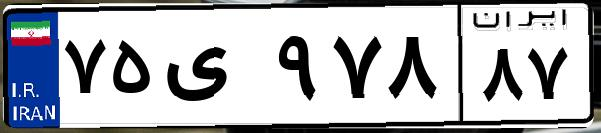5: (110, 28, 158, 98)
7: (330, 28, 385, 110), (57, 26, 110, 100), (525, 38, 570, 115)
8: (385, 28, 445, 110), (475, 38, 525, 113)
9: (270, 28, 330, 110)
ی: (158, 20, 270, 120)
